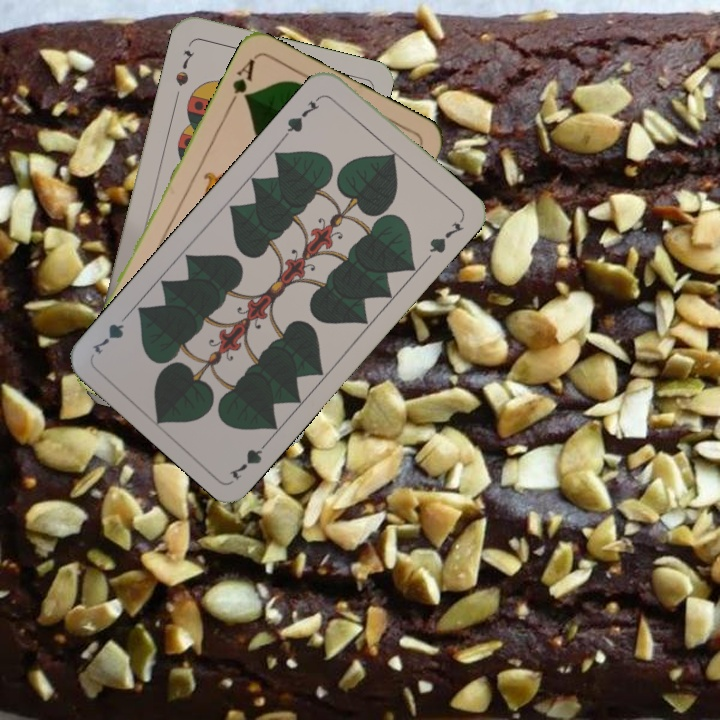G7: (225, 434, 274, 483), (280, 91, 325, 139)
GA: (225, 54, 258, 110)
S7: (171, 45, 196, 89)
